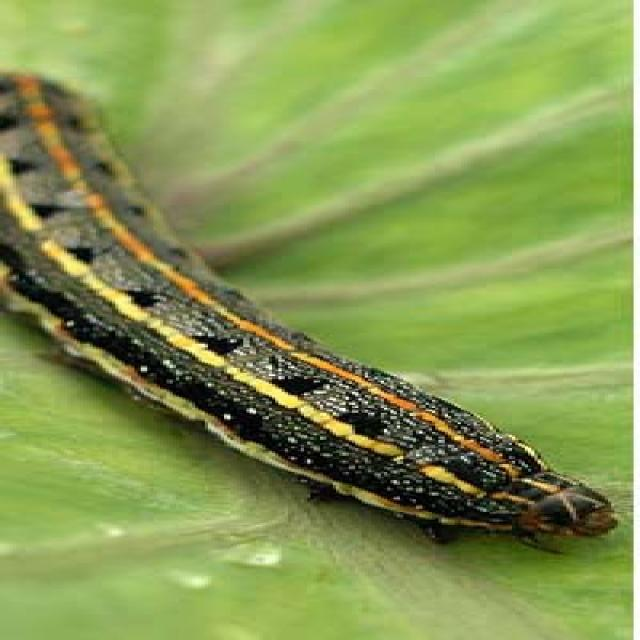worm: (1, 65, 619, 555)
